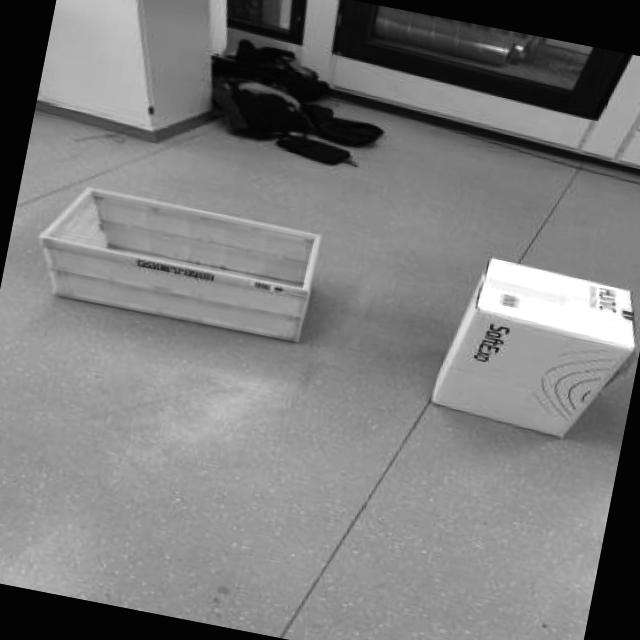box: (9, 152, 348, 376), (390, 226, 640, 472)
